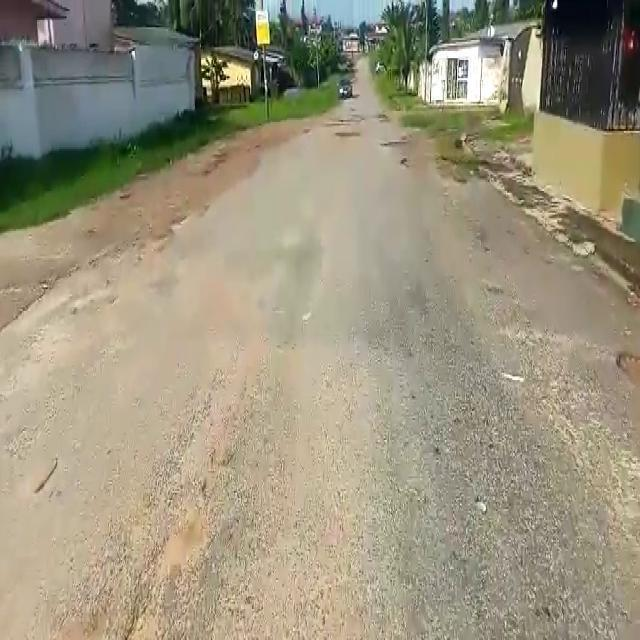pothole: (616, 353, 640, 389)
